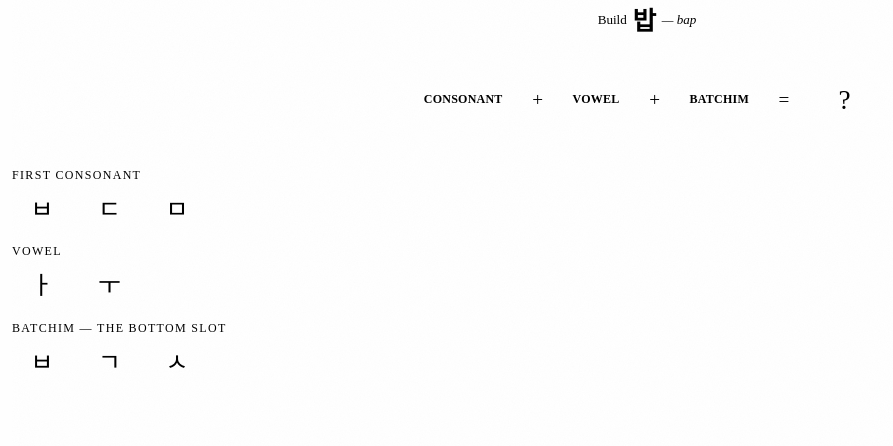
AssembleStep trays › does not change the lead slot when batchim ㅂ is activated
The width and height of the screenshot is (893, 446).
Click the radio button labelled "ㅁ" at (177, 210), box [147,187,207,232]
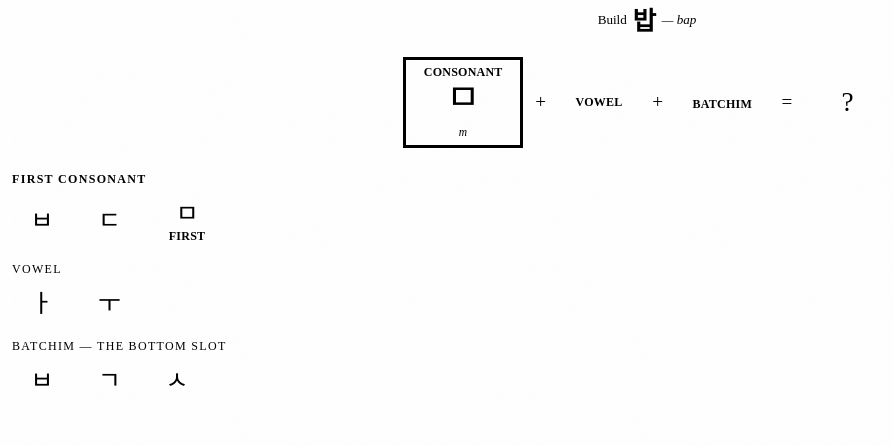
Click the radio button labelled "ㅏ" at (42, 304), box [12,281,72,327]
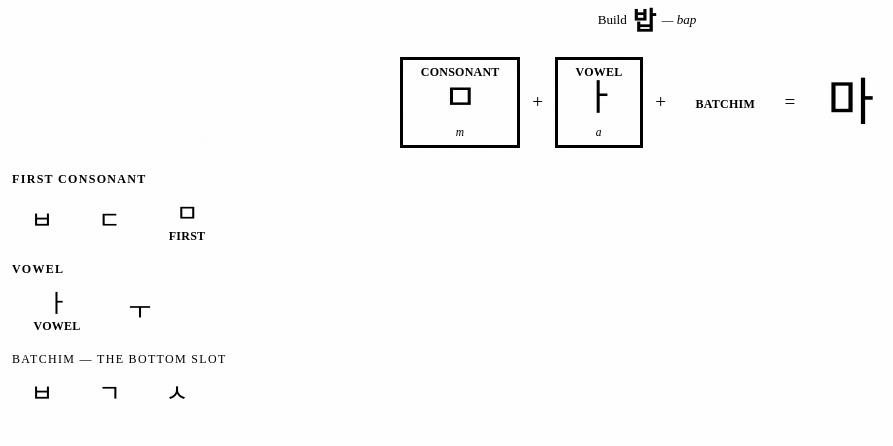
Click the radio button labelled "ㅂ" below "batchim — the bottom slot" at (42, 394), box [12,371,72,417]
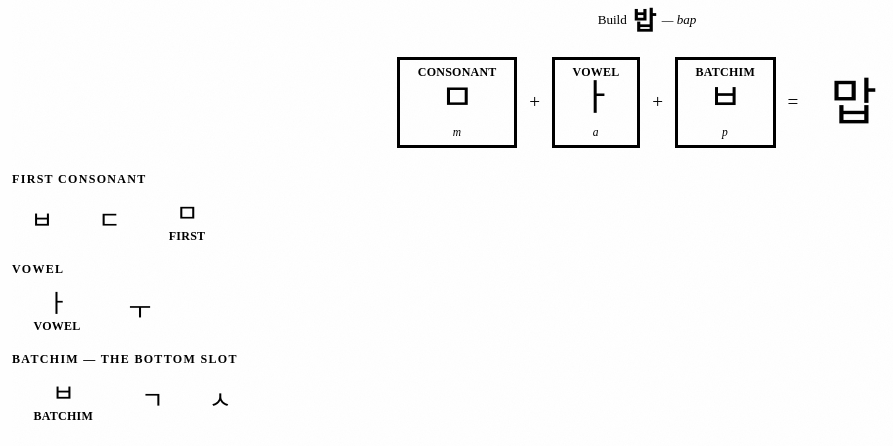
Expected: the text with class "slot-reading" reads "m", [453,126,462,138]
Expected: the text with class "slot-reading" reads "a", [593,126,599,138]
Expected: the text with class "slot-reading" reads "p", [722,126,728,138]
